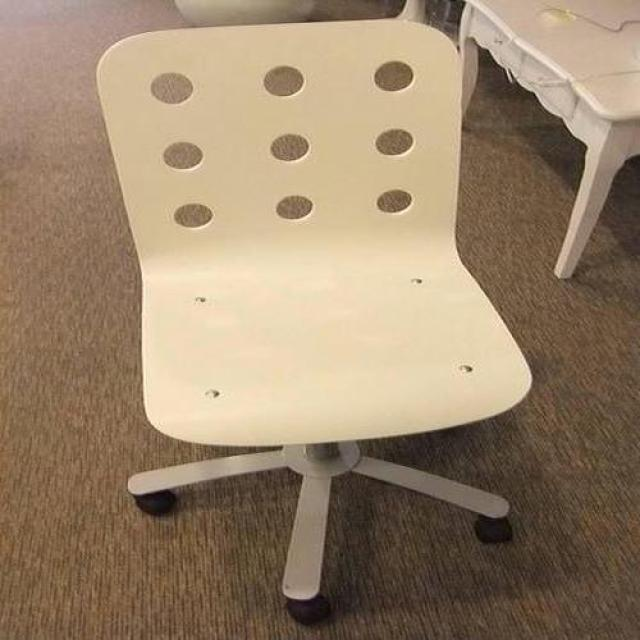swivelchair: (93, 18, 534, 627)
